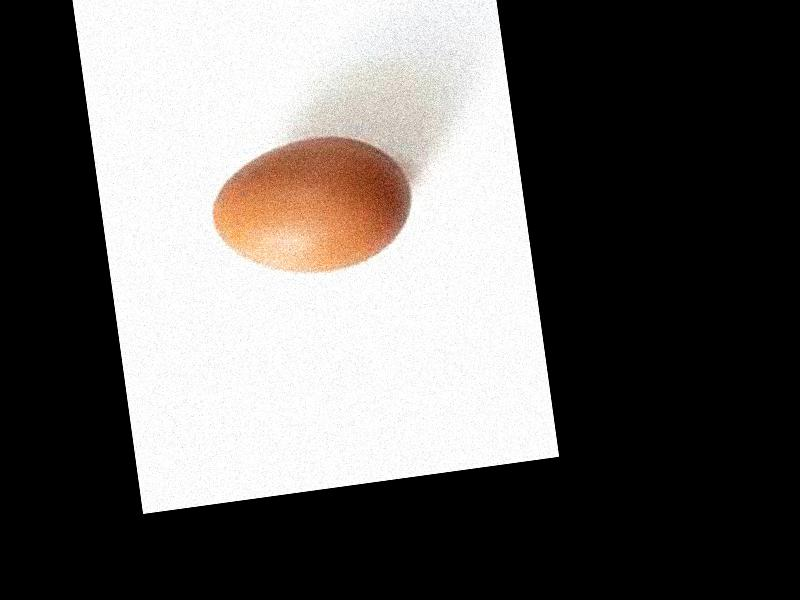Eggs: (202, 127, 418, 283)
